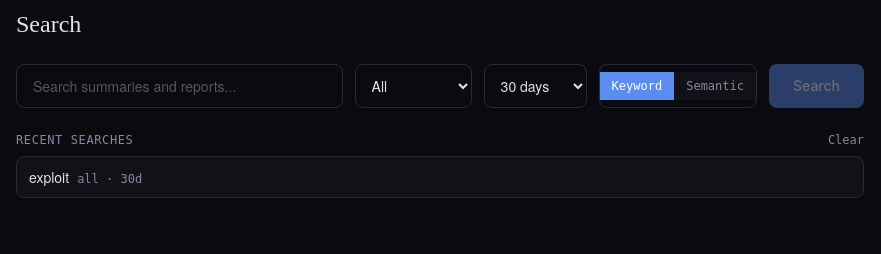
Test case: Search › renders a macro alert preview on report hits when no active chain preview is present
The width and height of the screenshot is (881, 254).
Type "macro" into the field with placeholder "Search summaries and reports...".
click(179, 86); type("macro")  # box top-left (16, 64), bottom-right (343, 108)
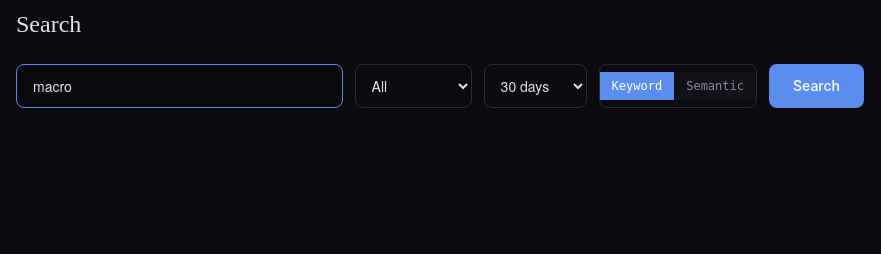
Click the button "Search".
click(816, 86)  # box top-left (769, 64), bottom-right (864, 108)
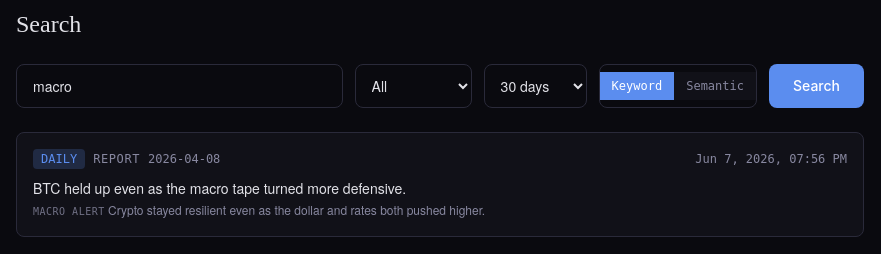
Result: the text "Macro Alert" is shown at top-left (33, 206), bottom-right (105, 217)
Result: the text "Crypto stayed resilient even as the dollar and rates both pushed higher." is shown at top-left (108, 201), bottom-right (485, 218)
